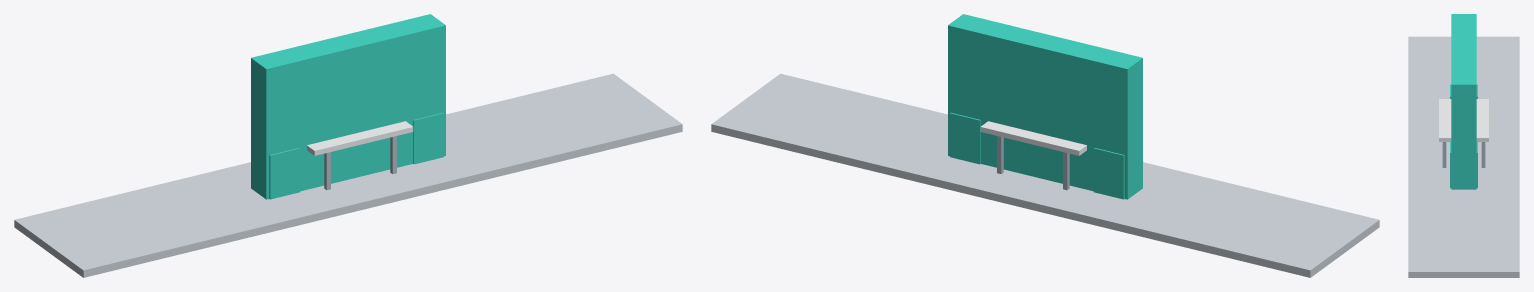
3 views of the same model, side by side, from view 1: azimuth 30°, elevation 25°; view 2: azimuth 150°, elevation 25°; view 3: azimuth 270°, elevation 25° (orthographic). The views are drawn at different scales.
Parts seen in each view (by area): view 1: Exhibition Booth Concept; view 2: Exhibition Booth Concept; view 3: Exhibition Booth Concept.
Part boxes in pixels (<box>): Exhibition Booth Concept: <box>14,14,682,277</box>; Exhibition Booth Concept: <box>711,14,1379,277</box>; Exhibition Booth Concept: <box>1408,14,1519,277</box>.
Bounding box in the file's own units: 10 × 2.2 × 2.
